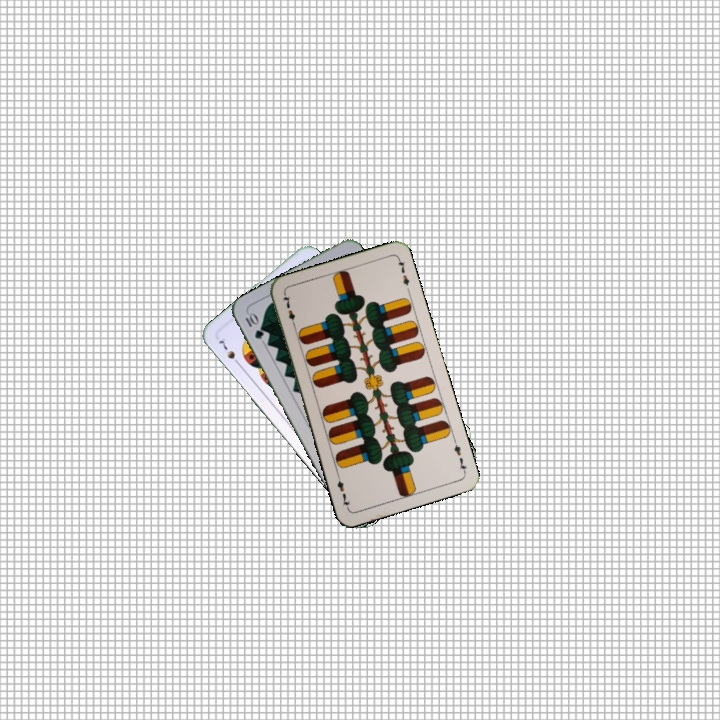E7: (279, 290, 298, 330), (450, 435, 469, 475)
G10: (241, 309, 266, 342)
S7: (215, 334, 243, 369)
